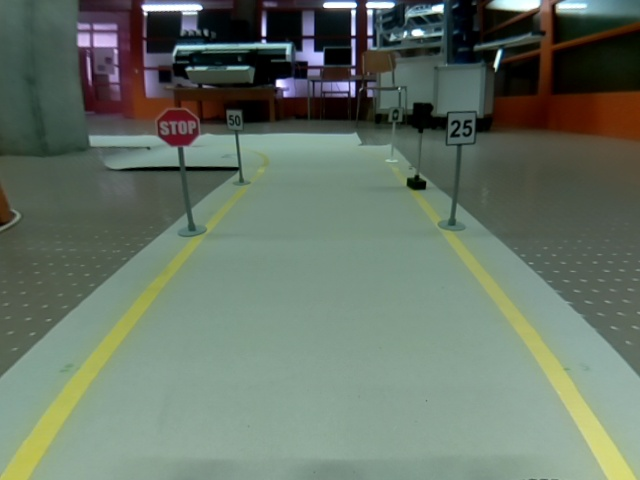battery: (388, 107, 403, 123)
speed25: (446, 111, 477, 145)
speed50: (226, 109, 244, 130)
stop: (155, 108, 200, 147)
trafficLightOff: (412, 102, 434, 129)
